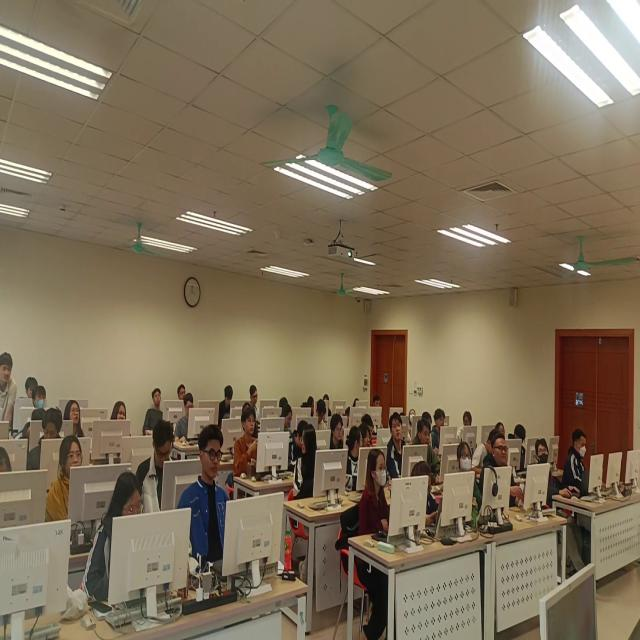raise_head: (479, 434, 527, 511), (45, 434, 85, 519), (358, 446, 388, 536), (456, 438, 486, 518), (232, 404, 262, 482), (293, 423, 319, 505), (534, 436, 561, 502), (385, 413, 408, 476), (2, 349, 18, 438), (25, 383, 48, 437), (143, 386, 163, 432), (64, 396, 86, 436), (433, 408, 448, 448), (111, 397, 129, 424), (26, 376, 38, 401), (176, 382, 187, 400), (496, 421, 507, 437), (409, 404, 417, 425), (373, 392, 382, 409), (422, 410, 433, 421)
using_computer: (83, 471, 143, 610), (180, 423, 233, 564), (135, 419, 178, 516), (31, 408, 64, 474), (410, 460, 442, 528), (564, 427, 593, 493), (412, 416, 442, 476), (174, 390, 197, 444), (472, 428, 496, 472), (288, 420, 307, 466), (513, 422, 529, 473), (218, 383, 234, 424), (330, 412, 346, 450), (359, 423, 374, 452), (248, 380, 260, 415), (1, 442, 14, 473), (282, 402, 295, 431), (362, 414, 376, 434), (301, 395, 314, 416), (324, 392, 334, 415), (354, 396, 360, 408)
